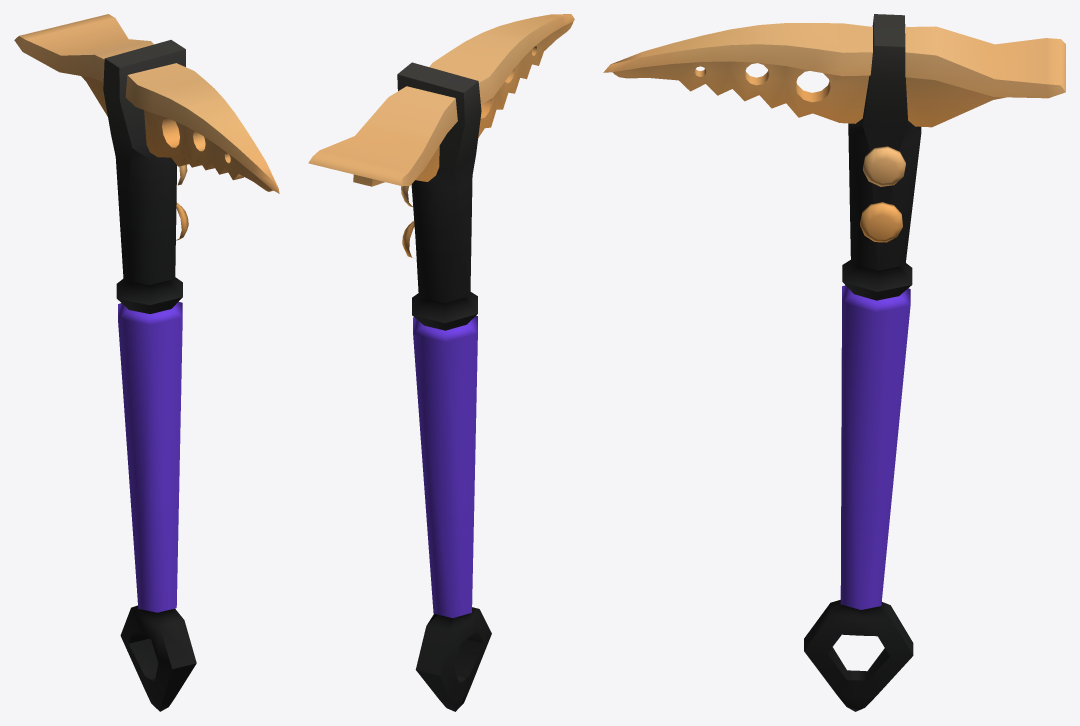
Rendered from ColdArms_IcePick_Purple.gltf.
3 views of the same model, side by side, from view 1: azimuth 30°, elevation 25°; view 2: azimuth 150°, elevation 25°; view 3: azimuth 270°, elevation 25° (orthographic). The views are drawn at different scales.
Visible parts, largest first — view 1: ColdArms_IcePick_Purple; view 2: ColdArms_IcePick_Purple; view 3: ColdArms_IcePick_Purple.
Part boxes in pixels (x1=…): ColdArms_IcePick_Purple: x1=14, y1=14, x2=279, y2=711; ColdArms_IcePick_Purple: x1=308, y1=14, x2=574, y2=711; ColdArms_IcePick_Purple: x1=603, y1=14, x2=1065, y2=711.
Bounding box in the file's own units: 0.1699 × 1.12 × 0.6863.
2 materials, 2 textured.
